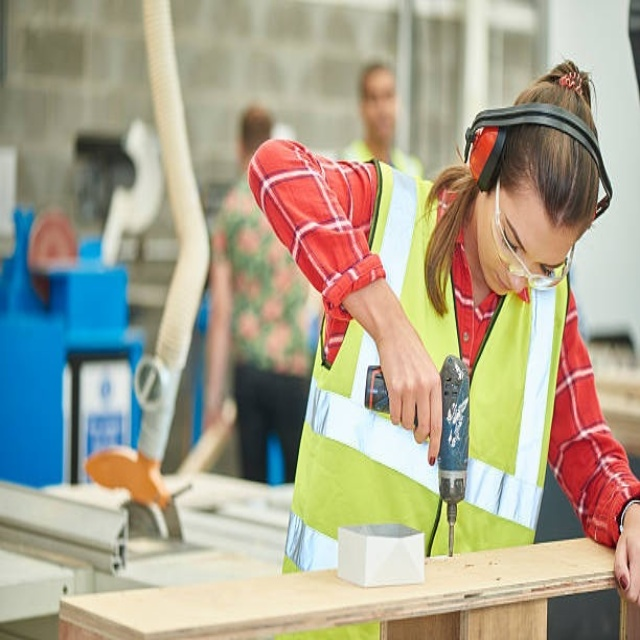Gafas: (491, 173, 576, 289)
Sin_guantes: (374, 322, 447, 471), (613, 486, 640, 607)
Sin_mascara: (482, 259, 526, 301)
